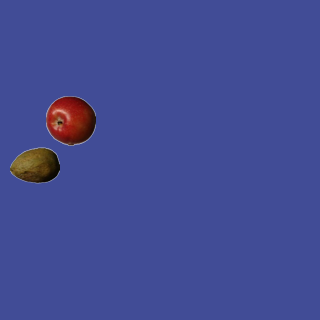Apple Braeburn: (45, 95, 95, 145)
Papaya: (9, 140, 59, 190)
